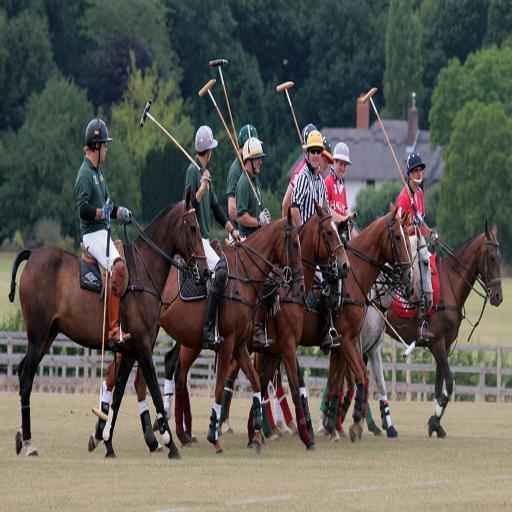horse: (6, 195, 504, 458)
